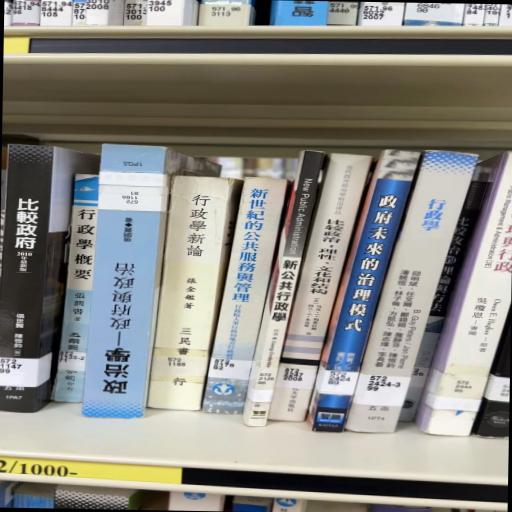reverse: (82, 145, 221, 420)
